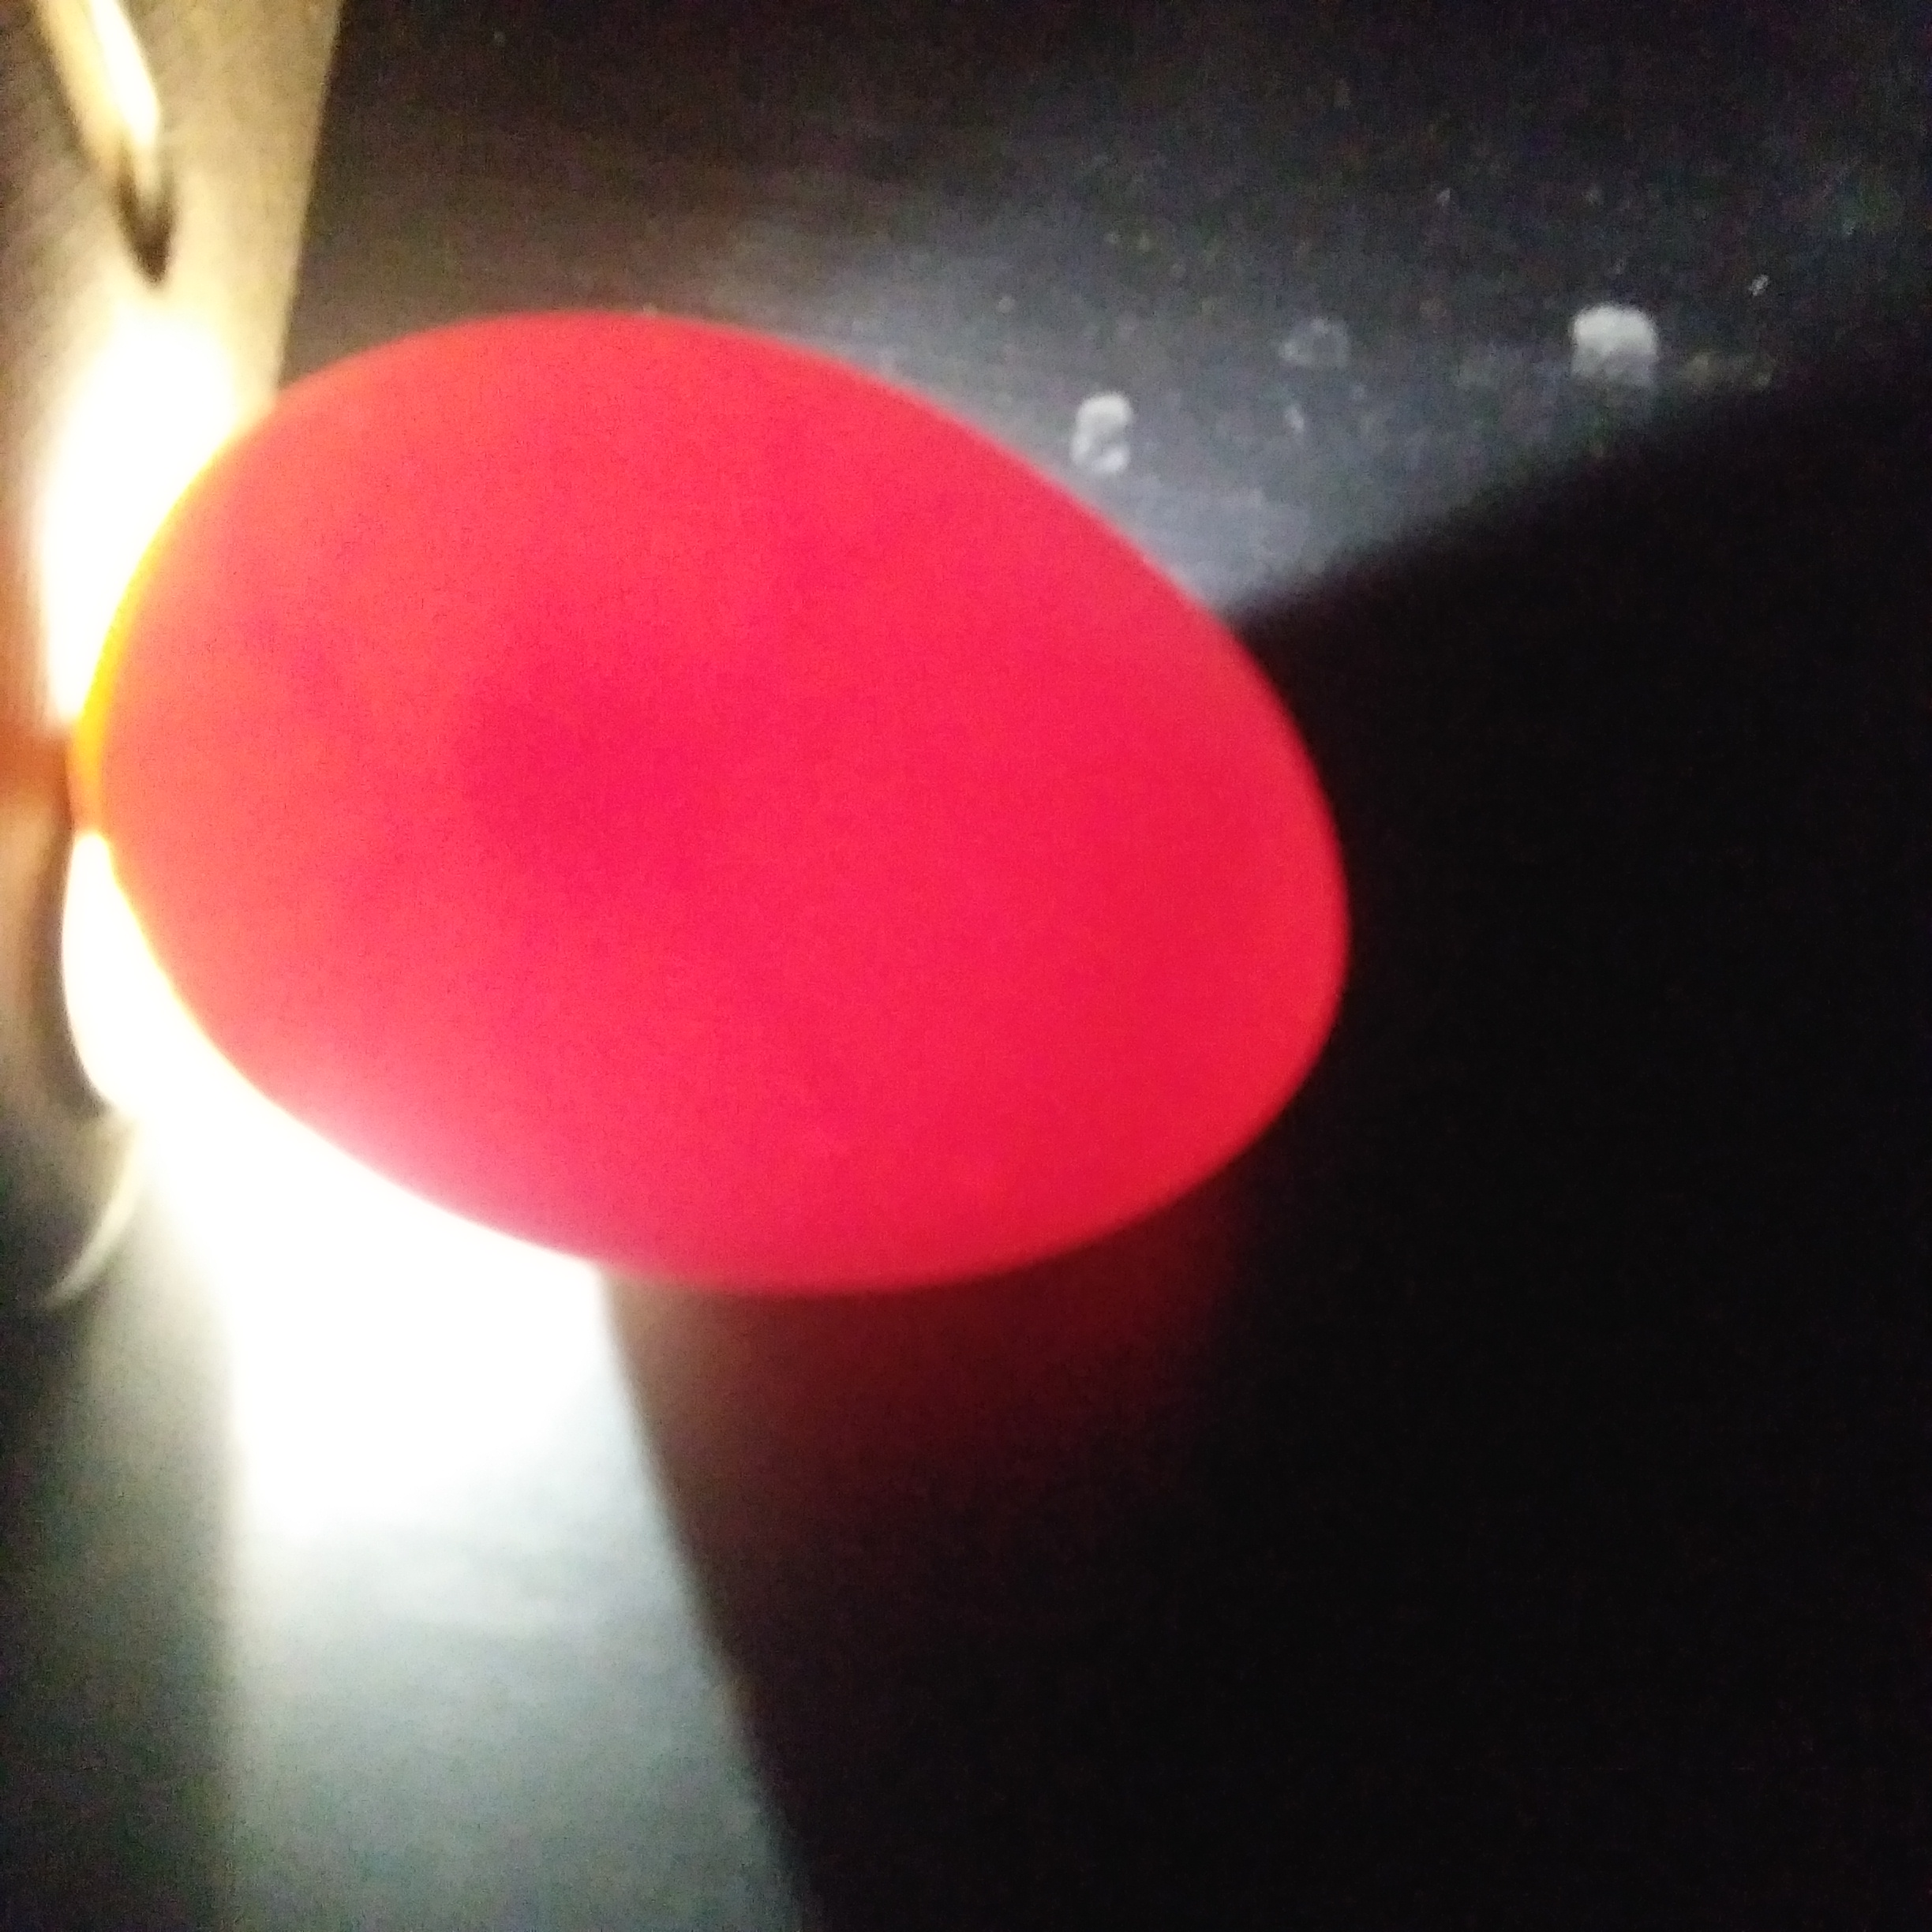bloodcell: (195, 531, 387, 858)
embryo: (426, 690, 637, 870)
